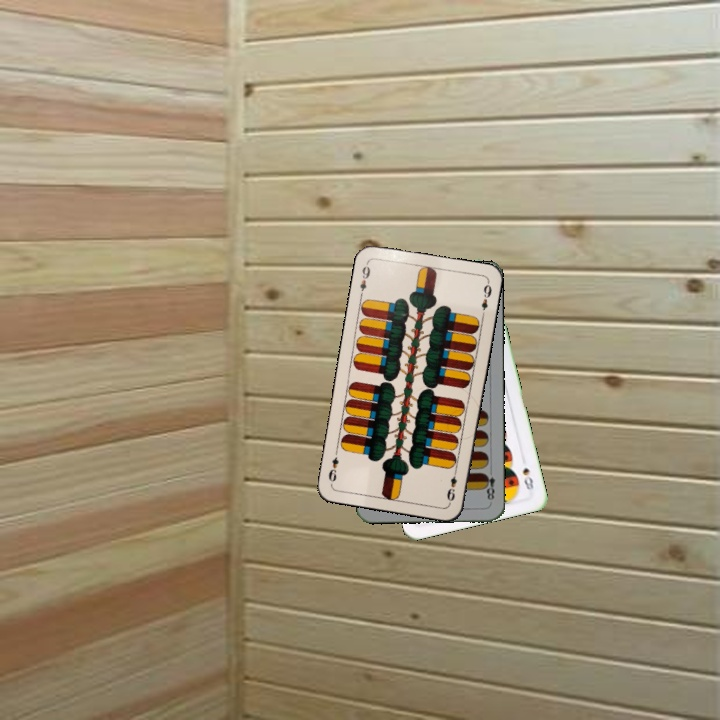E8: (480, 465, 497, 505)
E9: (443, 465, 460, 505), (356, 259, 373, 299)
S8: (519, 463, 536, 492)
